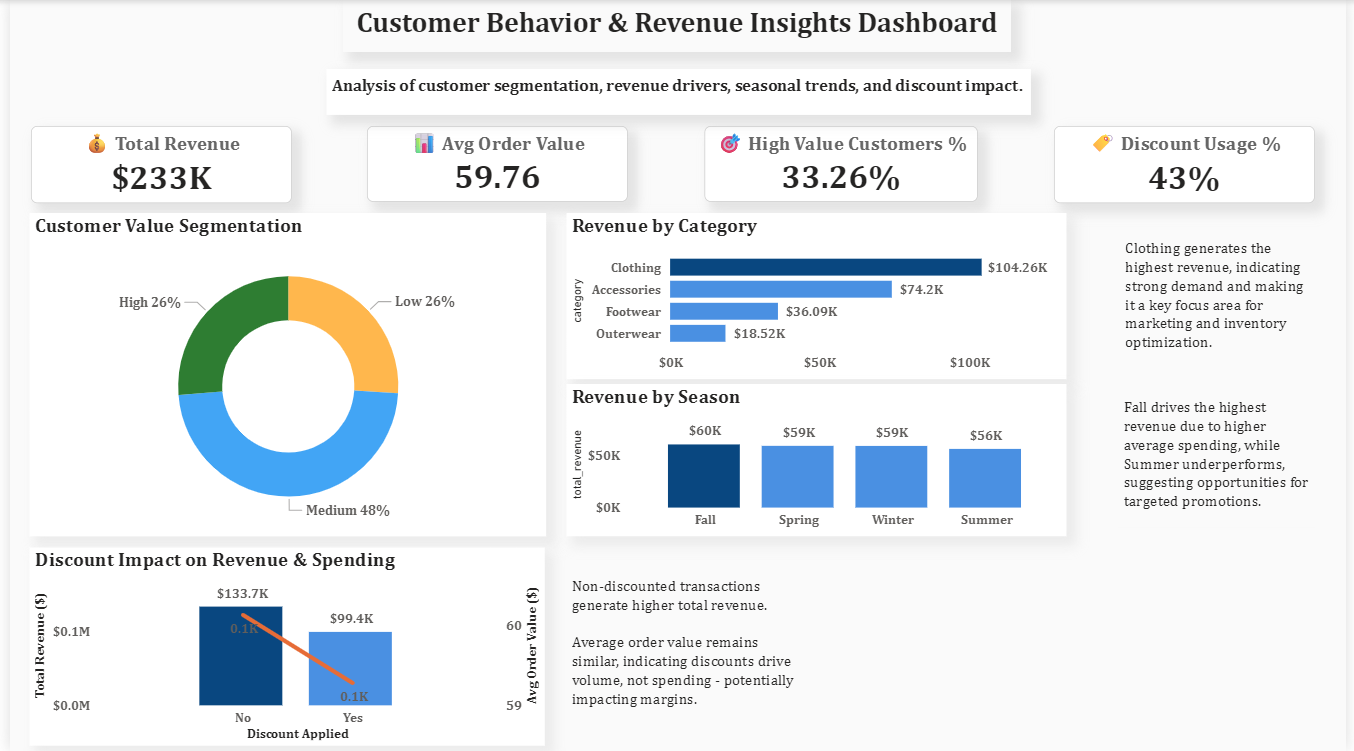

Layout of this report page (visuals, bound fields, positions):
{"tool":"powerbi","page":{"name":"Page 1","canvas":[1280,720],"ordinal":0},"visuals":[{"type":"card","title":"💰 Total Revenue","fields":{"Values":["myproject_customer_shopping.total_revenue"]},"box":[19.7,120.4,249.8,74.2],"z":0},{"type":"card","title":"📊 Avg Order Value","fields":{"Values":["myproject_customer_shopping.avg_order_value"]},"box":[342.7,121.1,249.8,72.7],"z":1000},{"type":"card","title":"🎯 High Value Customers %","fields":{"Values":["myproject_customer_shopping.high_value_%"]},"box":[665.7,121.1,262,72.7],"z":2000},{"type":"card","title":"🏷️ Discount Usage %","fields":{"Values":["myproject_customer_shopping.discount_%"]},"box":[1000.9,120.4,249.8,74.2],"z":3000},{"type":"donutChart","title":"Customer Value Segmentation","fields":{"Y":["CountNonNull(myproject_customer_shopping.customer_id)"],"Category":["myproject_customer_shopping.customer_segment"]},"box":[19,204.6,495.4,309.8],"z":4000},{"type":"clusteredBarChart","title":"Revenue by Category","fields":{"Category":["myproject_customer_shopping.category"],"Y":["myproject_customer_shopping.total_revenue"]},"box":[533.4,204.6,479.4,159.3],"z":5000},{"type":"clusteredColumnChart","title":"Revenue by Season","fields":{"Category":["myproject_customer_shopping.season"],"Y":["myproject_customer_shopping.total_revenue"]},"box":[533.4,368.3,479.4,146.1],"z":6000},{"type":"textbox","box":[1064.5,222.6,183.2,125.7],"z":7000},{"type":"textbox","box":[1063,375.5,187.8,130.2],"z":8000},{"type":"textbox","box":[533,546.6,224.1,145.4],"z":9000},{"type":"lineClusteredColumnComboChart","title":"Discount Impact on Revenue & Spending","fields":{"Category":["myproject_customer_shopping.discount_status"],"Y":["myproject_customer_shopping.total_revenue"],"Y2":["myproject_customer_shopping.avg_order_value"]},"box":[19,524.7,494,190],"z":10000},{"type":"textbox","box":[319.7,0,640.5,50],"z":11000},{"type":"textbox","box":[302.8,66.6,675.3,43.9],"z":12000}]}

Visuals, with their boxes in screenshot pixels (x1, y1, x2, y2), scaled from the page's 1280x720 canvas onto the 1354x751 screenshot:
"💰 Total Revenue" card: (x1=21, y1=126, x2=285, y2=203)
"📊 Avg Order Value" card: (x1=363, y1=126, x2=627, y2=202)
"🎯 High Value Customers %" card: (x1=704, y1=126, x2=981, y2=202)
"🏷️ Discount Usage %" card: (x1=1059, y1=126, x2=1323, y2=203)
"Customer Value Segmentation" donutChart: (x1=20, y1=213, x2=544, y2=537)
"Revenue by Category" clusteredBarChart: (x1=564, y1=213, x2=1071, y2=380)
"Revenue by Season" clusteredColumnChart: (x1=564, y1=384, x2=1071, y2=537)
textbox: (x1=1126, y1=232, x2=1320, y2=363)
textbox: (x1=1124, y1=392, x2=1323, y2=527)
textbox: (x1=564, y1=570, x2=801, y2=722)
"Discount Impact on Revenue & Spending" lineClusteredColumnComboChart: (x1=20, y1=547, x2=543, y2=745)
textbox: (x1=338, y1=0, x2=1016, y2=52)
textbox: (x1=320, y1=69, x2=1035, y2=115)
